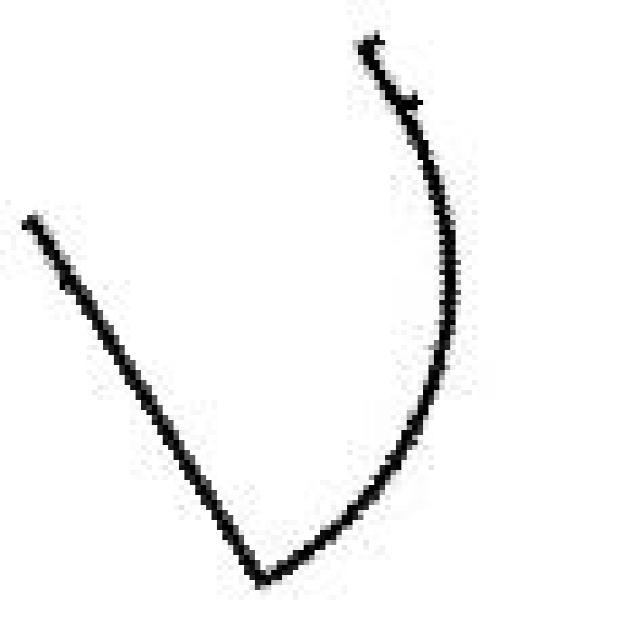door: (0, 35, 456, 575)
